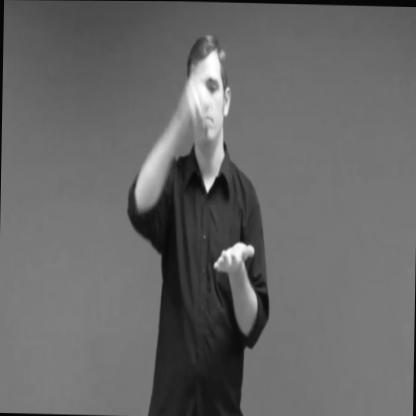Expensive: (152, 65, 268, 285)
